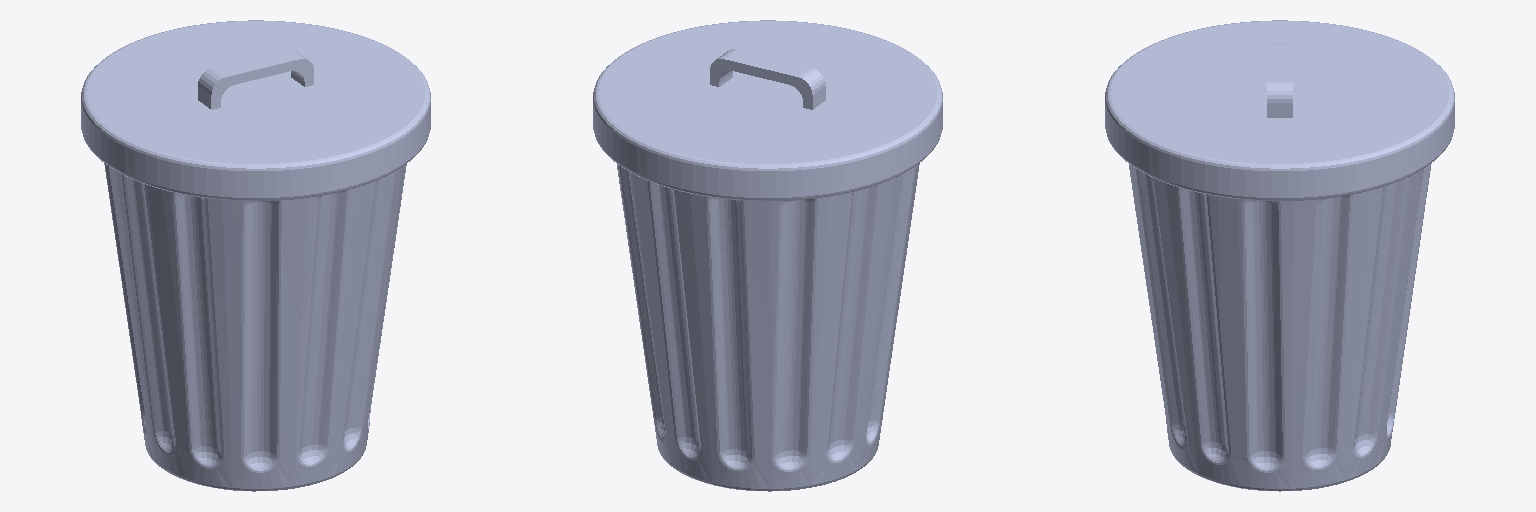
robot.urdf — bin_2:
<?xml version="1.0" encoding="utf-8"?>
<!-- This URDF was automatically created by SolidWorks to URDF Exporter! Originally created by [author] ([email redacted]) 
     Commit Version: 1.6.0-1-g15f4949  Build Version: 1.6.7594.29634
     For more information, please see http://wiki.ros.org/sw_urdf_exporter -->
<robot
  name="bin_2">
  <link
    name="base_link">
    <inertial>
      <origin
        xyz="-4.30211422042248E-16 6.41847686111419E-16 0.0428580947099156"
        rpy="0 0 0" />
      <mass
        value="0.0415176276226125" />
      <inertia
        ixx="2.56225187777418E-05"
        ixy="6.29844943154774E-18"
        ixz="8.30684542742714E-19"
        iyy="2.56380729804789E-05"
        iyz="-2.87848847228459E-17"
        izz="2.28116085233323E-05" />
    </inertial>
    <visual>
      <origin
        xyz="0 0 0"
        rpy="0 0 0" />
      <geometry>
        <mesh
          filename="package://bin_2/meshes/base_link.STL" scale="5 5 5"/>
      </geometry>
      <material
        name="">
        <color
          rgba="0.792156862745098 0.819607843137255 0.933333333333333 1" />
      </material>
    </visual>
    <collision>
      <origin
        xyz="0 0 0"
        rpy="0 0 0" />
      <geometry>
        <mesh
          filename="package://bin_2/meshes/base_link.STL" scale="5 5 5"/>
      </geometry>
    </collision>
  </link>

<gazebo reference="base_link">
    <material>Gazebo/Red</material>
</gazebo>

<gazebo>
    <static>true</static>
</gazebo>
</robot>

--- Facts derived from the render (not from the file) ---
3 views of the same robot in one strip: view 1: azimuth 30°, elevation 25°; view 2: azimuth 150°, elevation 25°; view 3: azimuth 270°, elevation 25° (orthographic).
Robot: bin_2 — 1 links, 0 joints (none); root link base_link; default pose: all joints at 0.
Links seen in each view (by area): view 1: base_link; view 2: base_link; view 3: base_link.
Boxes of the visible links, <box> form: base_link: <box>81,20,430,491</box>; base_link: <box>593,20,942,491</box>; base_link: <box>1105,20,1454,491</box>.
Size in the robot's own frame: 0.3247 by 0.325 by 0.3925 metres.
Meshes: 1 distinct files referenced, 1 mesh visuals loaded (1 binary STL).